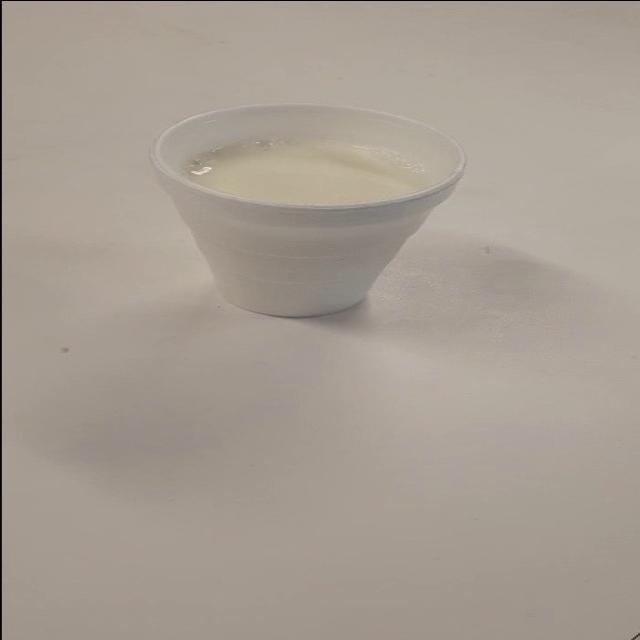Milk: (141, 82, 521, 342)
